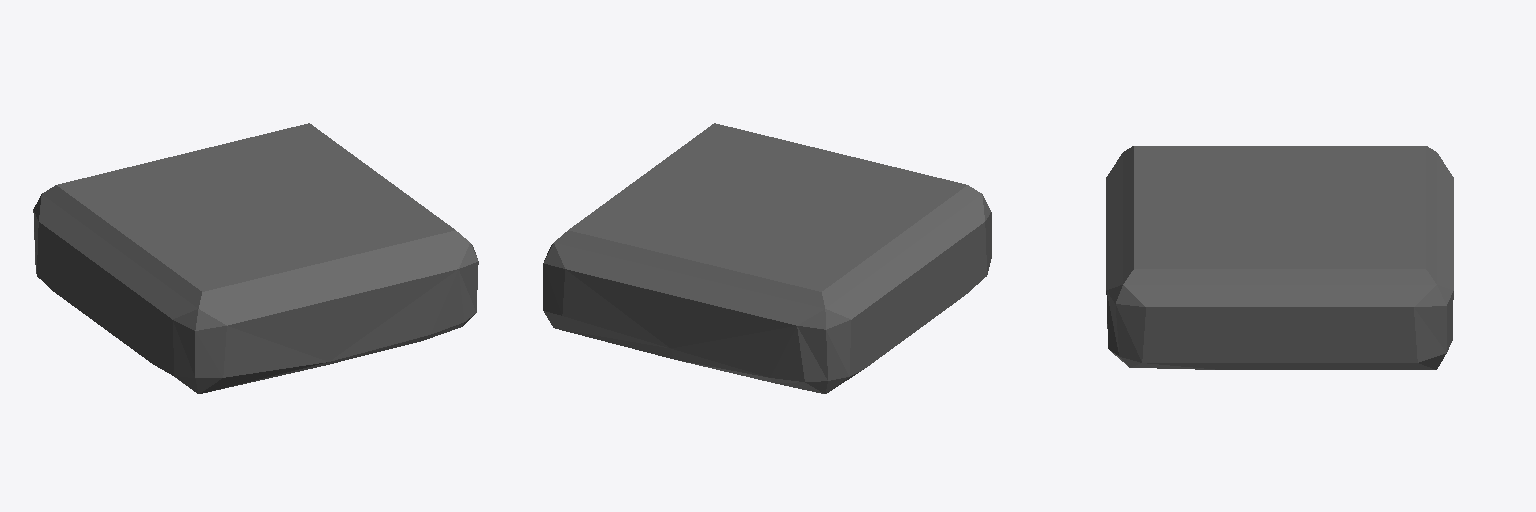
The model's file is PillarTileSide.obj.
3 renders of one model, left to right at view 1: azimuth 30°, elevation 25°; view 2: azimuth 150°, elevation 25°; view 3: azimuth 270°, elevation 25°, orthographic.
Bounding box in the file's own units: 1.3 × 0.4 × 1.3.